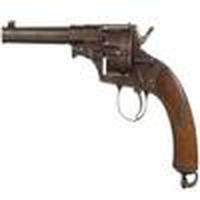gun: (1, 22, 200, 197)
